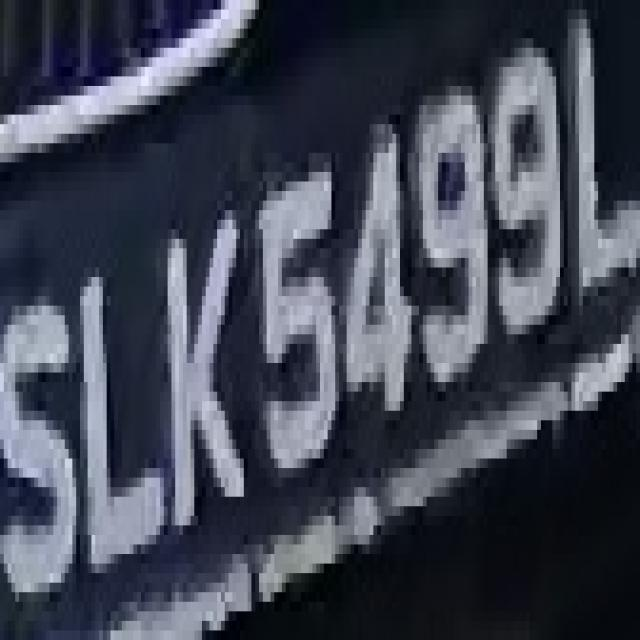4: (332, 114, 416, 440)
5: (252, 152, 351, 478)
9: (480, 58, 575, 372), (396, 77, 488, 382)
K: (152, 191, 236, 545)
L: (65, 239, 164, 611), (560, 0, 632, 296)
S: (4, 239, 84, 602)
